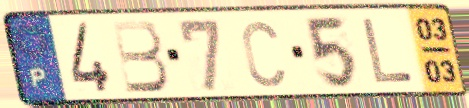4: (69, 20, 112, 94)
5: (302, 13, 360, 90)
7: (174, 17, 226, 94)
B: (109, 18, 172, 95)
C: (239, 18, 288, 90)
L: (359, 16, 417, 86)
